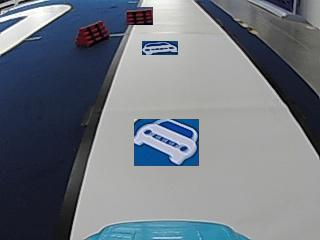bomb: (76, 18, 108, 46)
